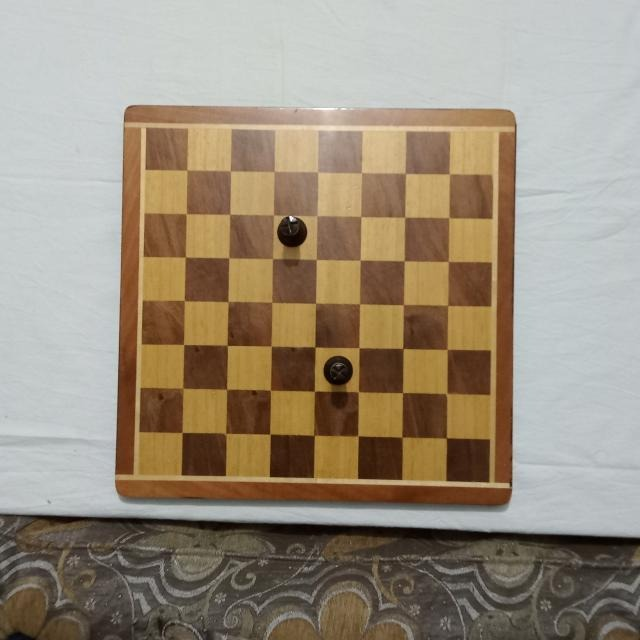black-rook: (276, 215, 309, 249), (321, 355, 354, 388)
